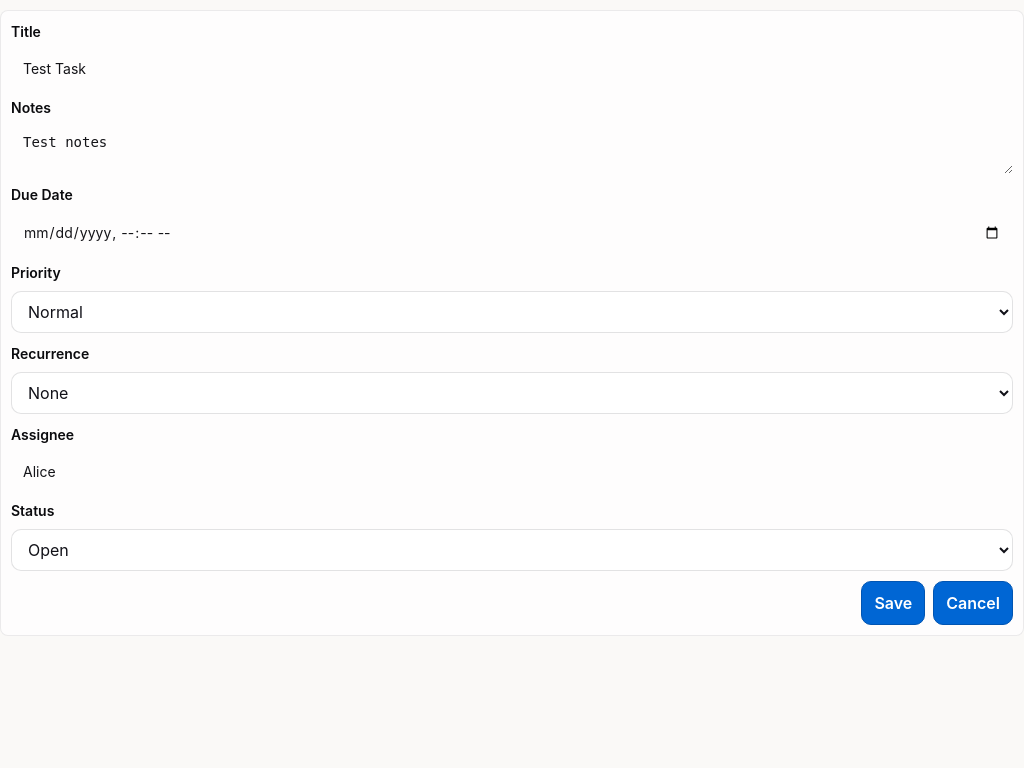
Test case: TaskEditor › validates that recurring tasks require a due date
Select "Weekly" in the dropdown labelled "Recurrence" at (512, 393), box [11, 372, 1013, 414]
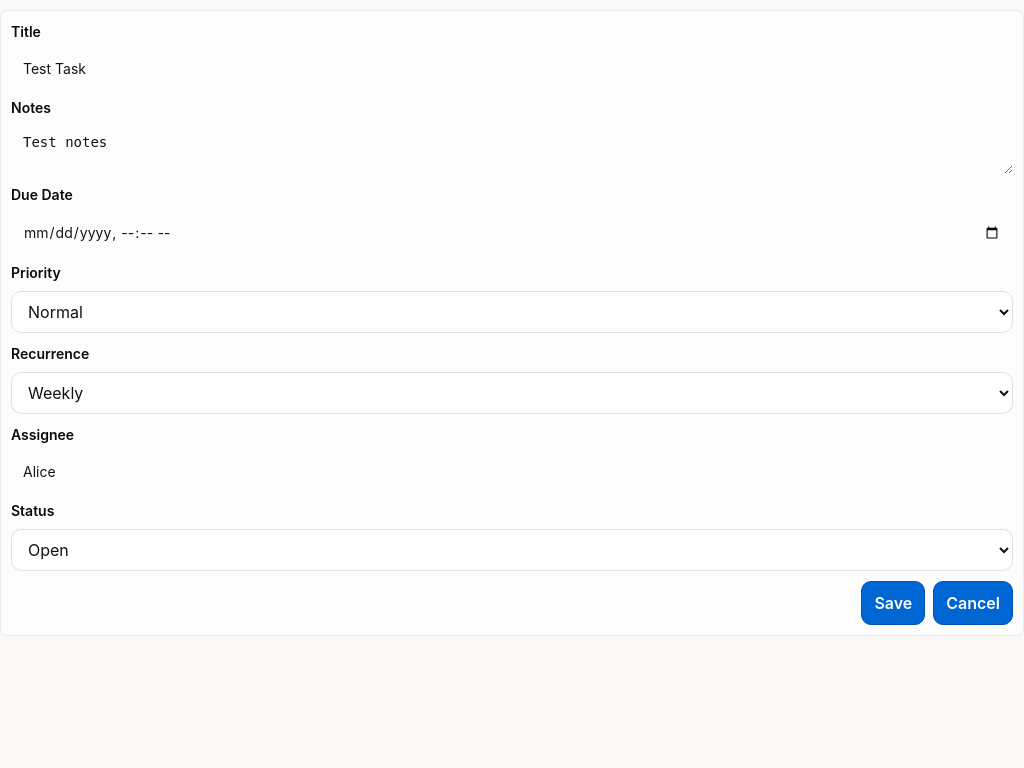
Click the button "Save" at (893, 603), box [861, 581, 925, 625]
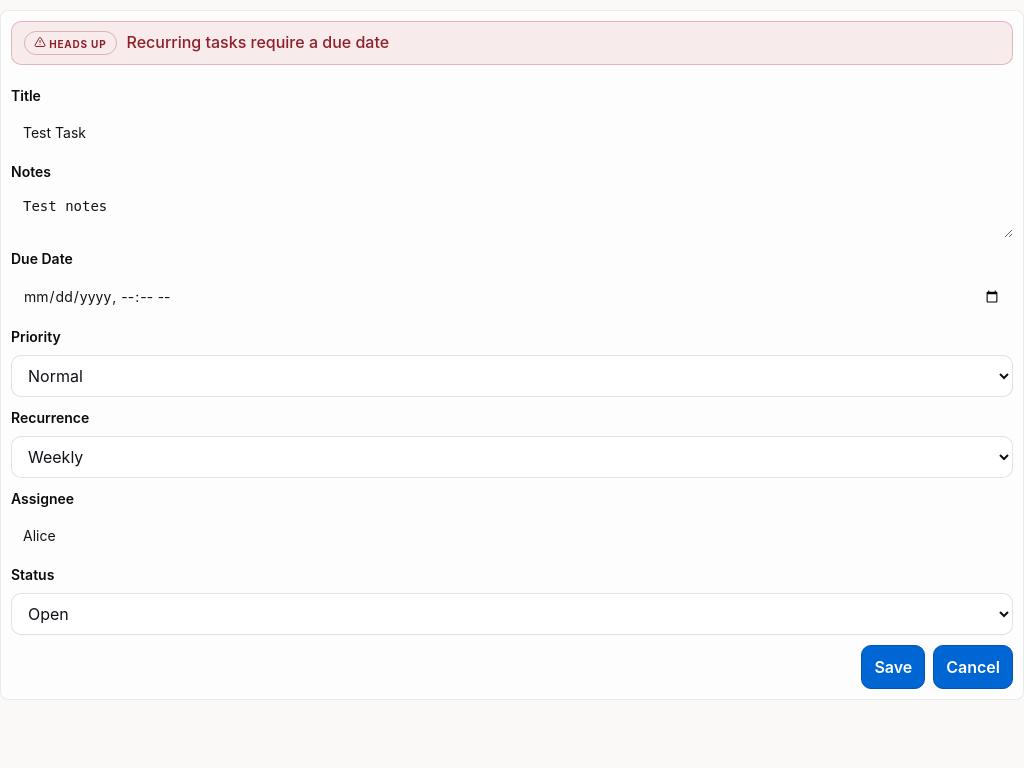
Now the text "Recurring tasks require a due date" is shown, box [126, 32, 389, 52]
